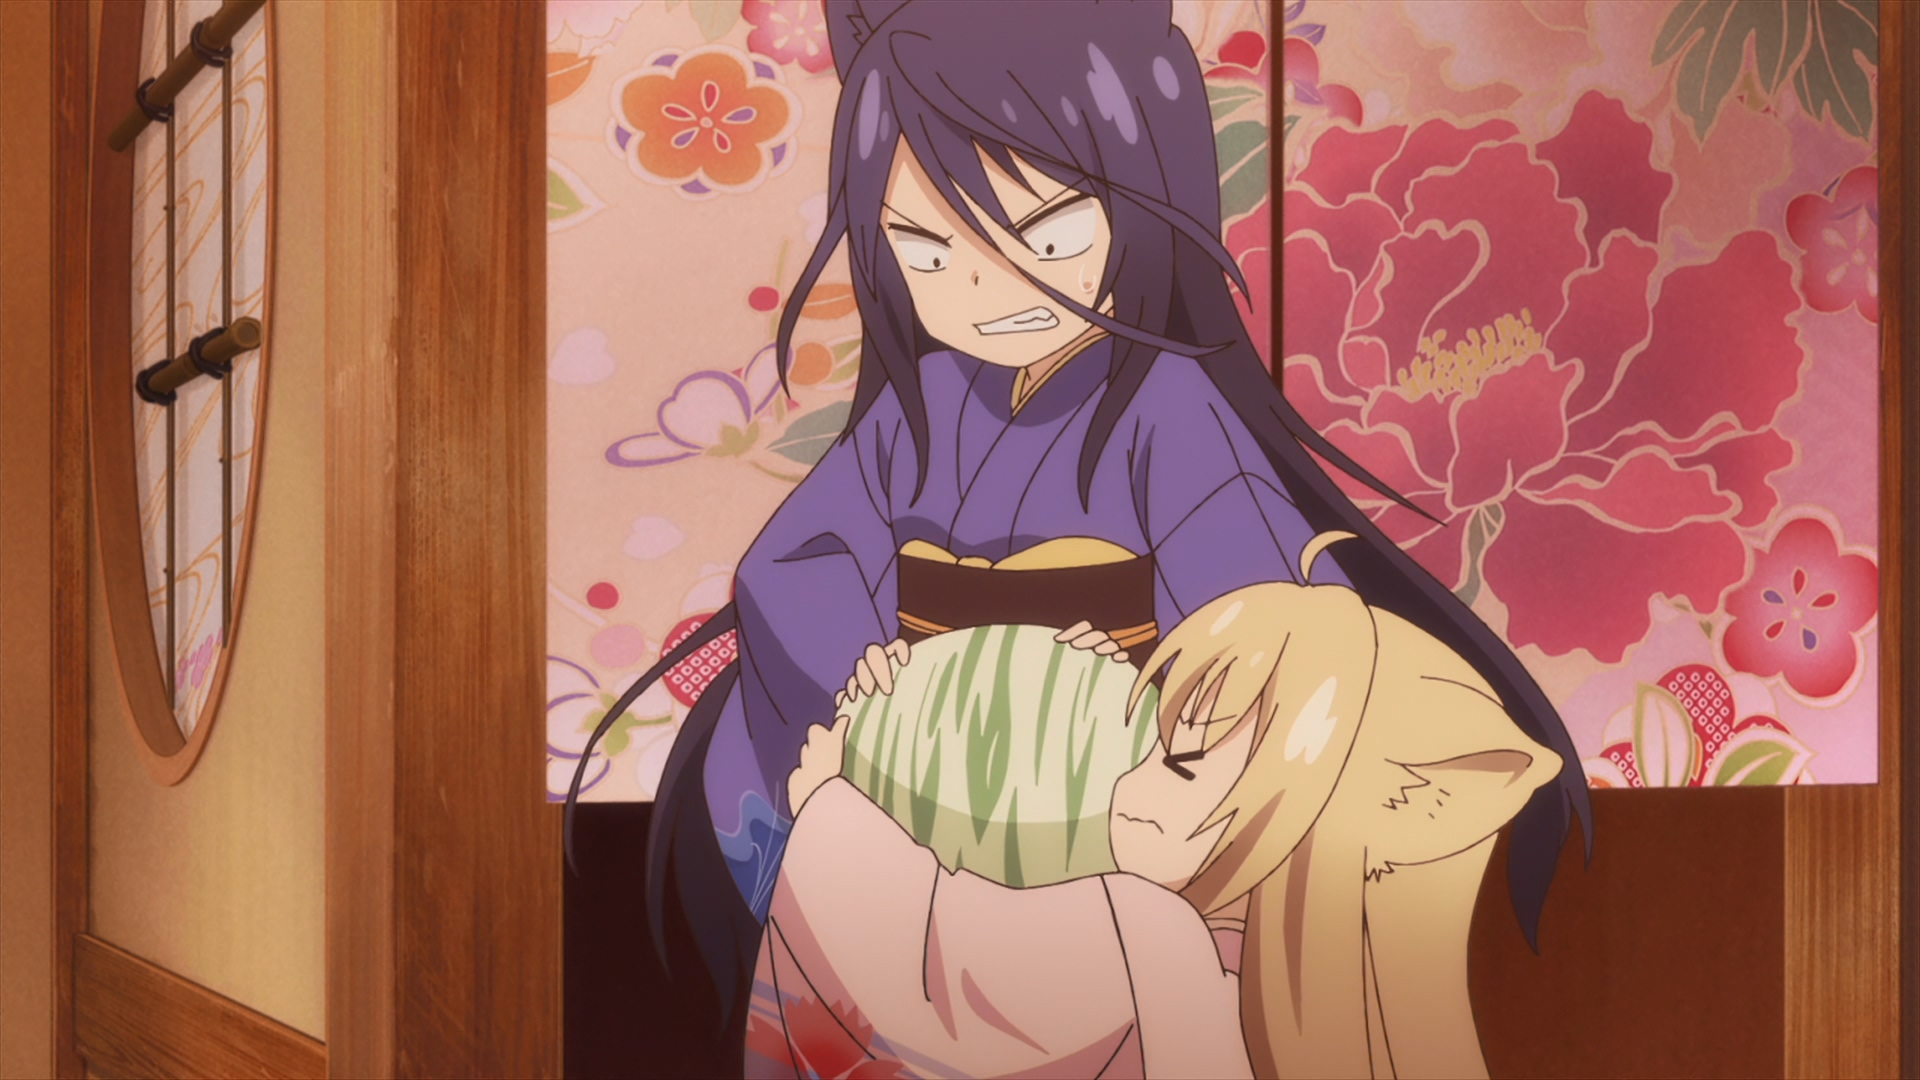柚: (746, 531, 1565, 1080)
皋: (564, 1, 1592, 1080)
